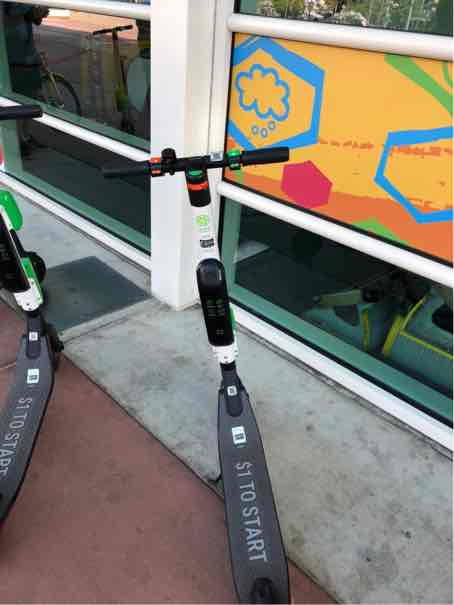scooter: (96, 138, 344, 605)
